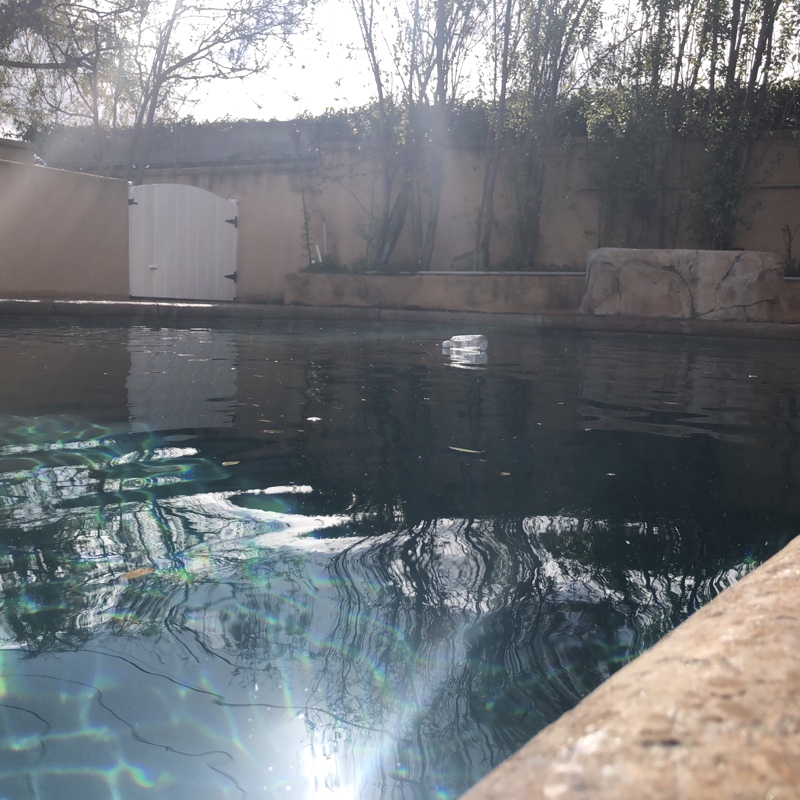Plastic Bottle: (440, 333, 486, 350)
